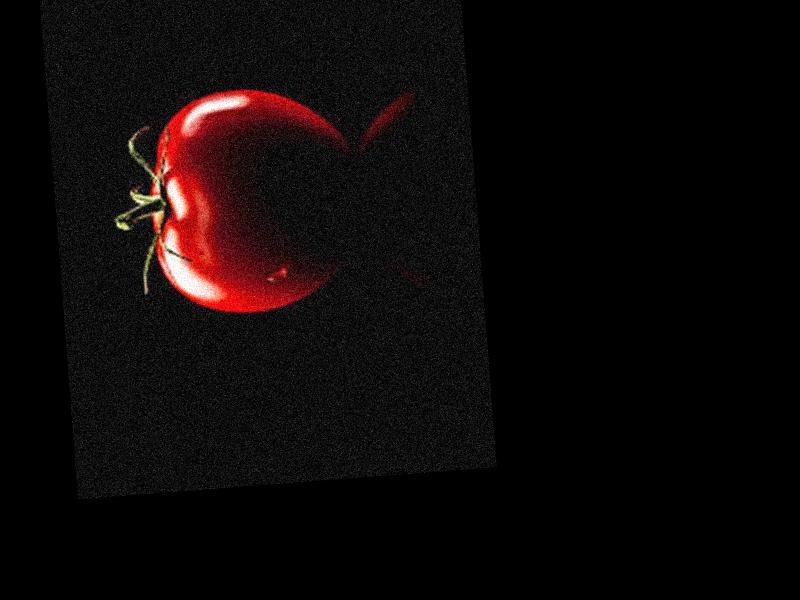Tomato: (137, 83, 355, 320)
